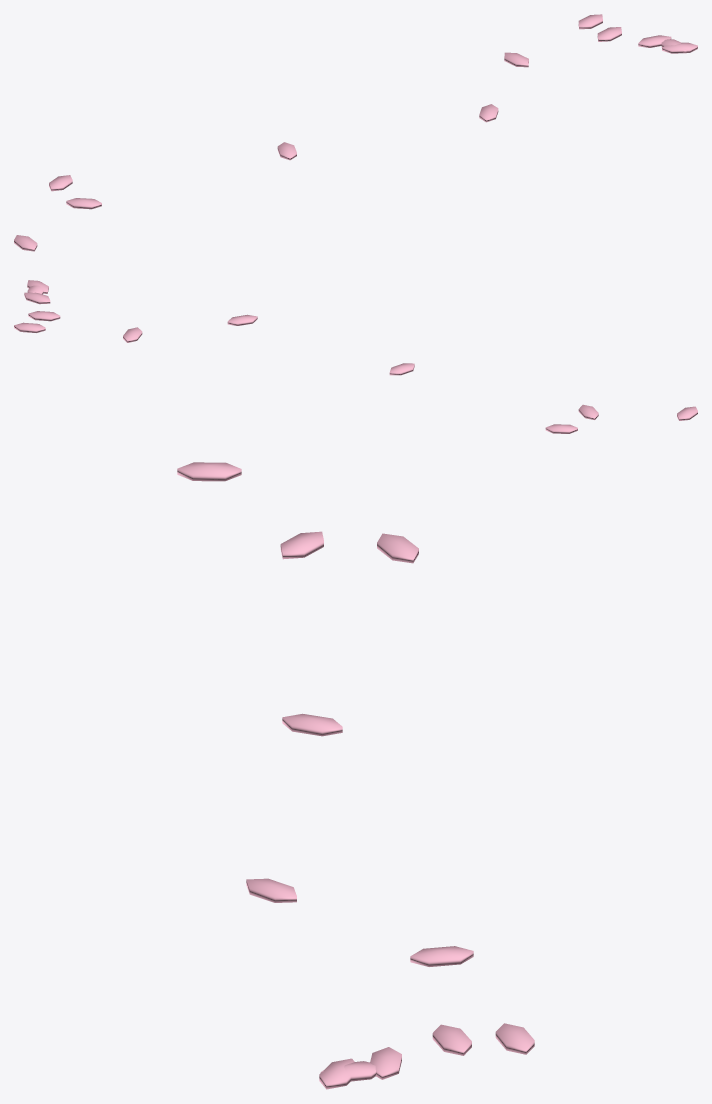
Rendered from layer_spring_edge_low.glb.
The picture shows the model from 3 angles, top to bottom: view 1: azimuth 30°, elevation 25°; view 2: azimuth 150°, elevation 25°; view 3: azimuth 270°, elevation 25°; orthographic projection. The views are drawn at different scales.
Bounding box in the file's own units: 2.76 × 0.0249 × 0.6717.
